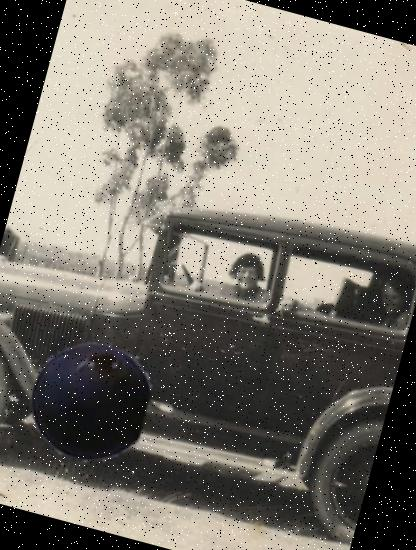Grape: (14, 324, 166, 476)
